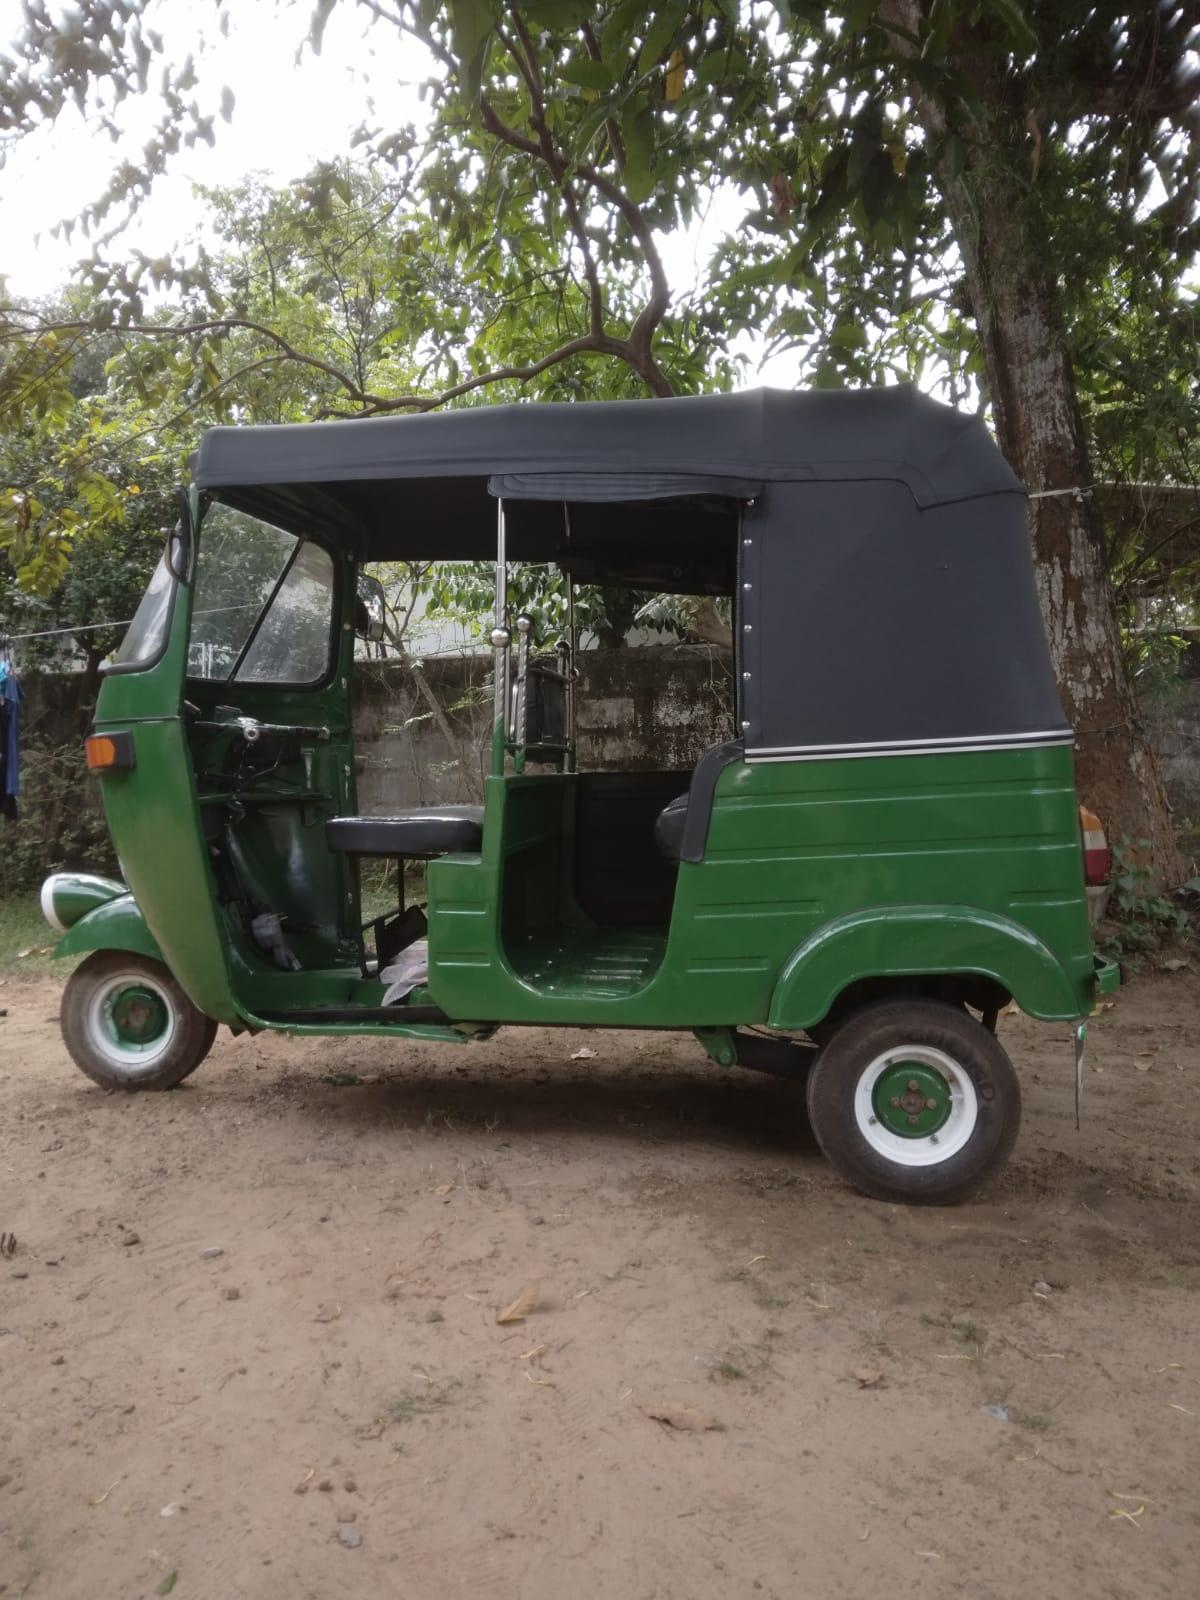threewheel: (32, 383, 1123, 1203)
